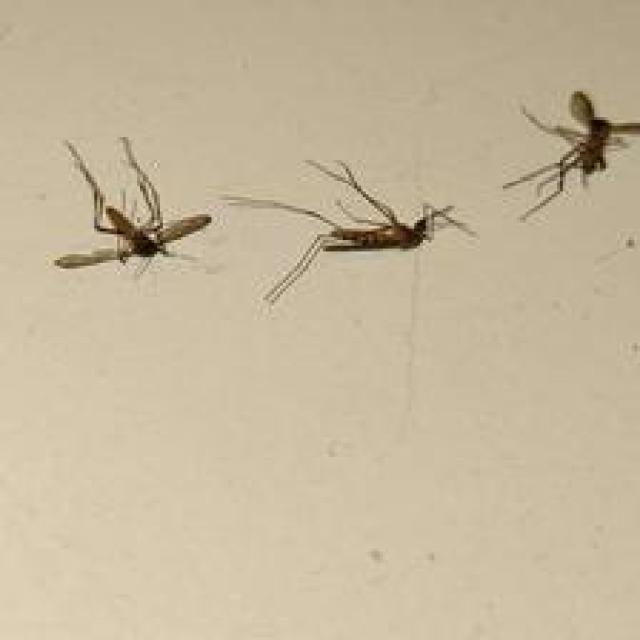Culex: (53, 134, 213, 277)
